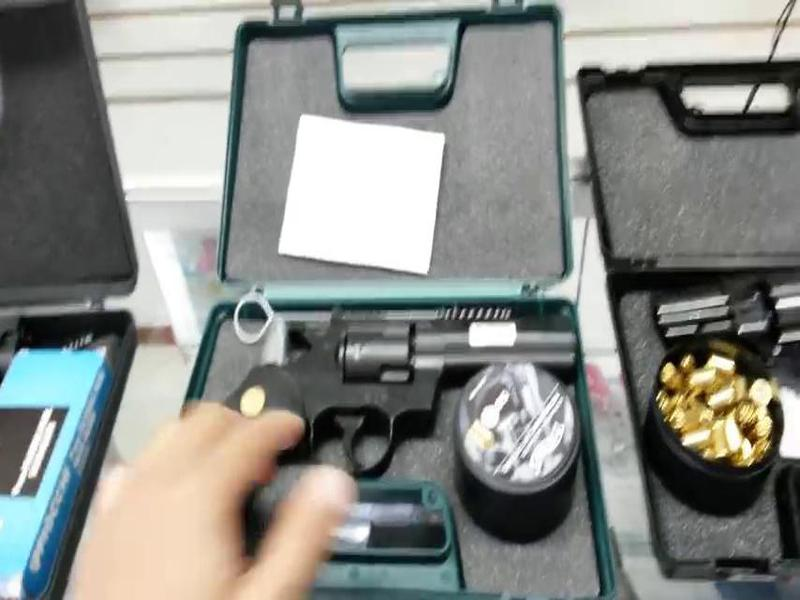Revolver: (199, 300, 599, 534)
